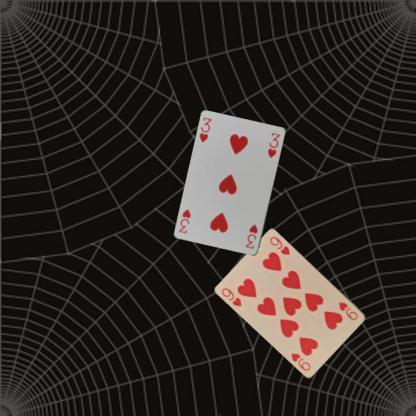3h: (243, 221, 259, 250), (197, 115, 213, 144)
9h: (336, 300, 360, 322), (220, 285, 242, 308)
